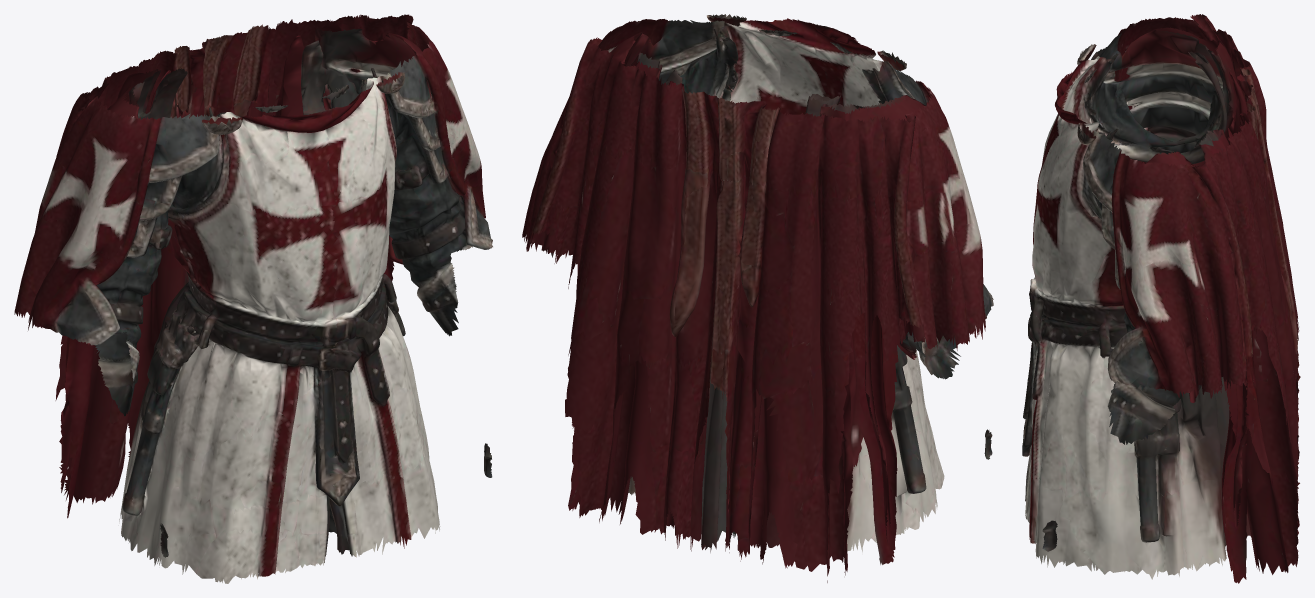
Rendered from templar_jacket.glb.
The picture shows the model from 3 angles, left to right: view 1: azimuth 30°, elevation 25°; view 2: azimuth 150°, elevation 25°; view 3: azimuth 270°, elevation 25°; orthographic projection. The views are drawn at different scales.
Bounding box in the file's own units: 0.7849 × 0.7431 × 0.4365.
1 material, 1 textured.
